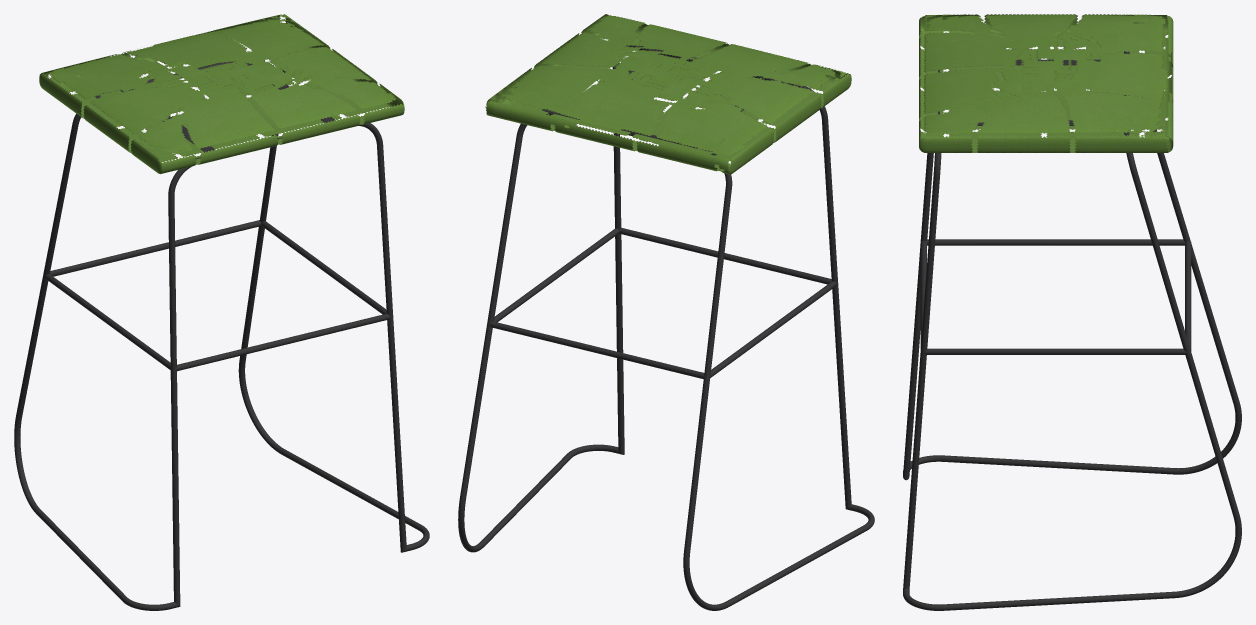
The model's file is Moon stool.FBX.
The picture shows the model from 3 angles, left to right: view 1: azimuth 30°, elevation 25°; view 2: azimuth 150°, elevation 25°; view 3: azimuth 270°, elevation 25°; orthographic projection. The views are drawn at different scales.
Visible parts, largest first — view 1: ChamferBox002, Object135; view 2: ChamferBox002, Object135; view 3: ChamferBox002, Object135.
Part boxes in pixels (<box>): ChamferBox002: <box>39,14,404,174</box>; Object135: <box>14,61,429,610</box>; ChamferBox002: <box>485,14,851,174</box>; Object135: <box>458,45,874,610</box>; ChamferBox002: <box>919,14,1173,152</box>; Object135: <box>903,51,1241,610</box>.
Bounding box in the file's own units: 551 × 796 × 520.
Materials: 2 (1 with a texture image).
